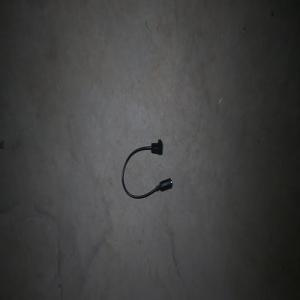Wire: (121, 139, 172, 199)
